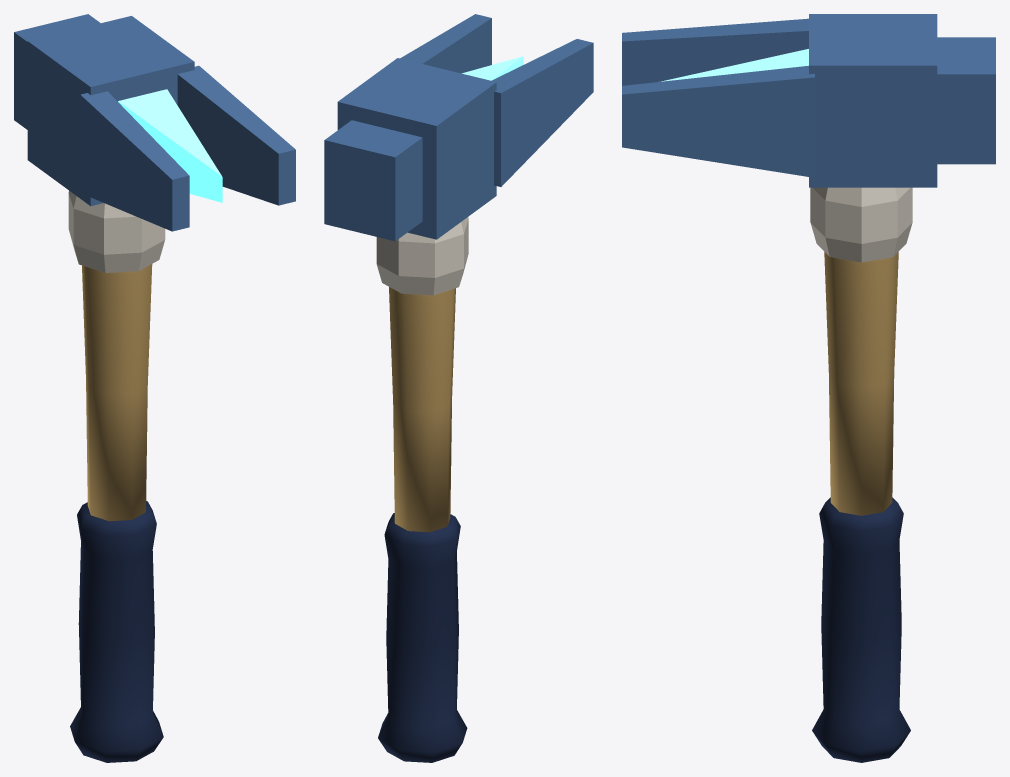
The model's file is FrostCracker.fbx.
The picture shows the model from 3 angles, left to right: view 1: azimuth 30°, elevation 25°; view 2: azimuth 150°, elevation 25°; view 3: azimuth 270°, elevation 25°; orthographic projection. The views are drawn at different scales.
Parts seen in each view (by area): view 1: Head, Grip, Handle, Band, Accent; view 2: Head, Grip, Handle, Band, Accent; view 3: Head, Grip, Handle, Band, Accent.
Part boxes in pixels (x1=…): Head: x1=14, y1=14, x2=295, y2=231; Grip: x1=70, y1=501, x2=163, y2=762; Handle: x1=82, y1=264, x2=152, y2=521; Band: x1=68, y1=190, x2=165, y2=272; Accent: x1=118, y1=89, x2=222, y2=202; Head: x1=324, y1=14, x2=593, y2=241; Grip: x1=378, y1=513, x2=467, y2=762; Handle: x1=389, y1=287, x2=455, y2=532; Band: x1=376, y1=217, x2=468, y2=295; Accent: x1=461, y1=56, x2=523, y2=80; Head: x1=622, y1=14, x2=995, y2=187; Grip: x1=812, y1=497, x2=910, y2=762; Handle: x1=824, y1=252, x2=898, y2=515; Band: x1=810, y1=187, x2=912, y2=262; Accent: x1=659, y1=49, x2=808, y2=81.
Bounding box in the file's own units: 0.5 × 2.67 × 1.28.
